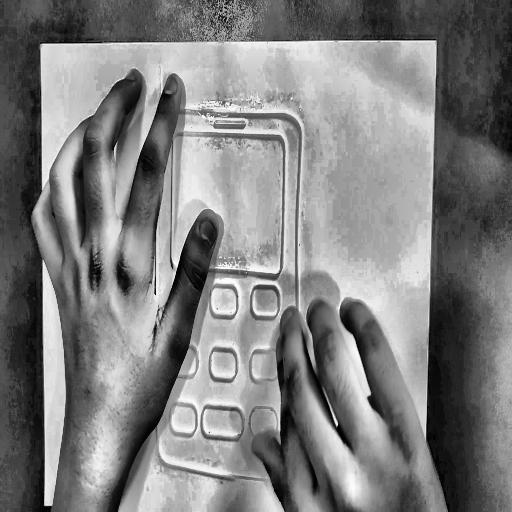bottom_left: (42, 500, 48, 511)
mobile: (151, 56, 305, 494)
top_left: (37, 39, 45, 51)
top_right: (434, 37, 440, 47)
